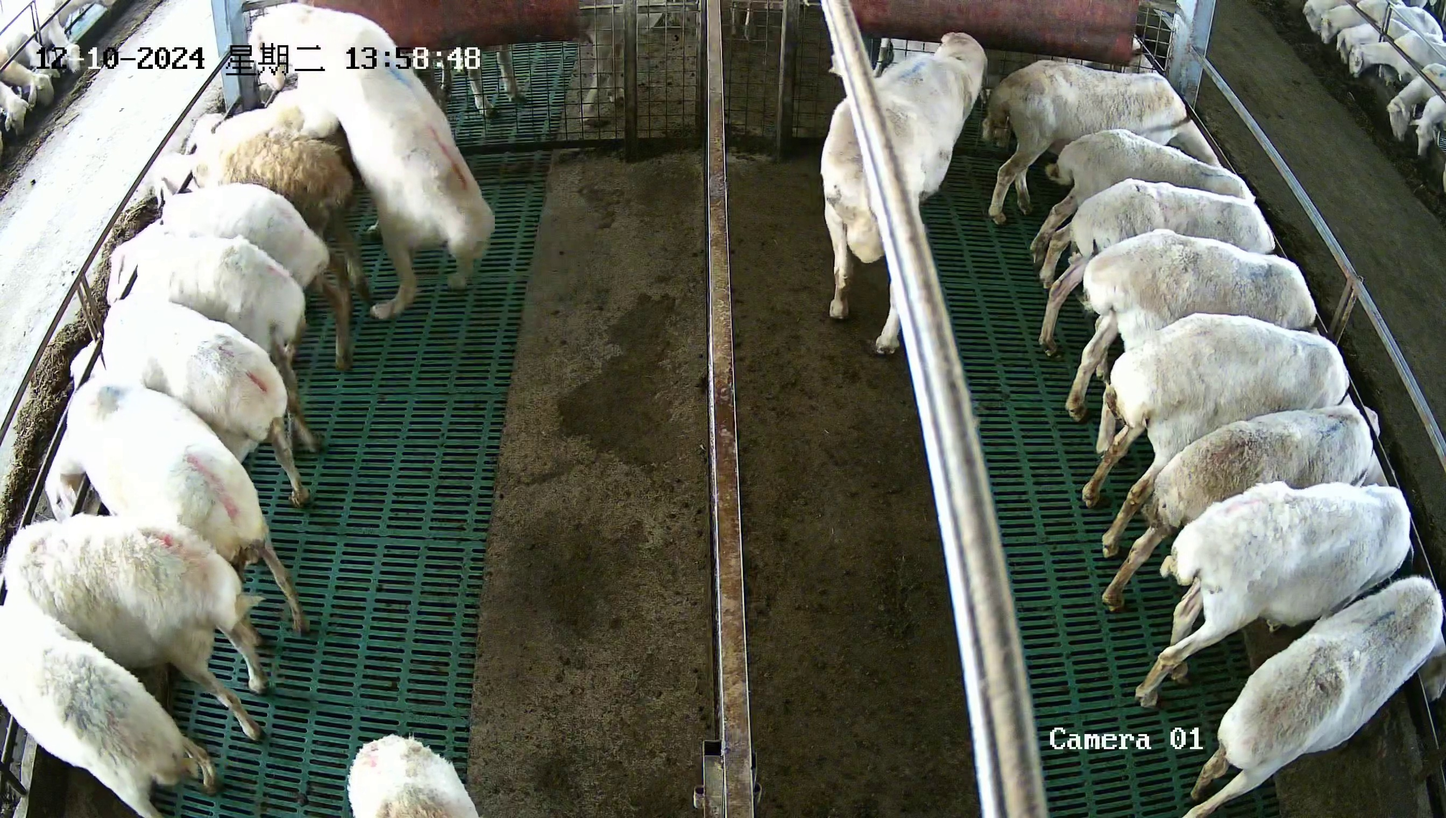Nmounting: (227, 1, 499, 321)
